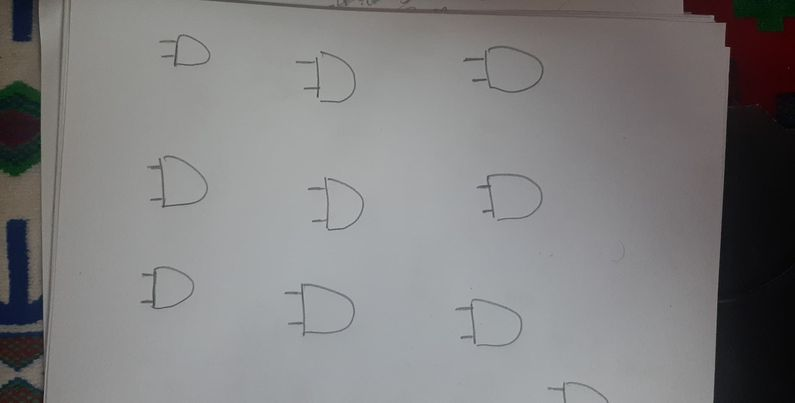and: (281, 274, 359, 347), (452, 290, 529, 355), (465, 41, 548, 101), (303, 168, 372, 238), (471, 167, 547, 230), (146, 151, 214, 216), (292, 45, 361, 109), (141, 258, 198, 321), (155, 26, 217, 73)
